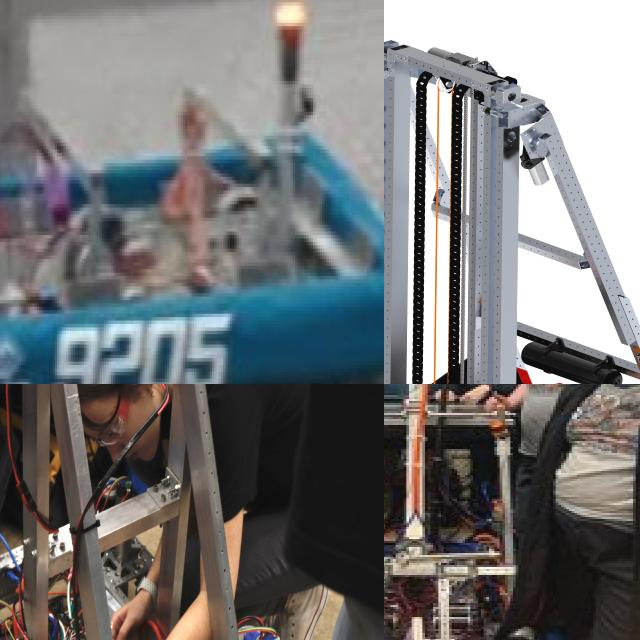FRC-Robots: (0, 0, 384, 384), (0, 384, 361, 640), (384, 54, 640, 384), (384, 384, 563, 633)
